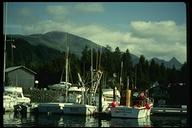boat: (108, 92, 157, 119)
cloud: (123, 19, 186, 42)
house: (5, 63, 38, 90)
mountain: (7, 29, 131, 48)
tree: (85, 48, 187, 78)
water: (7, 113, 184, 125)
